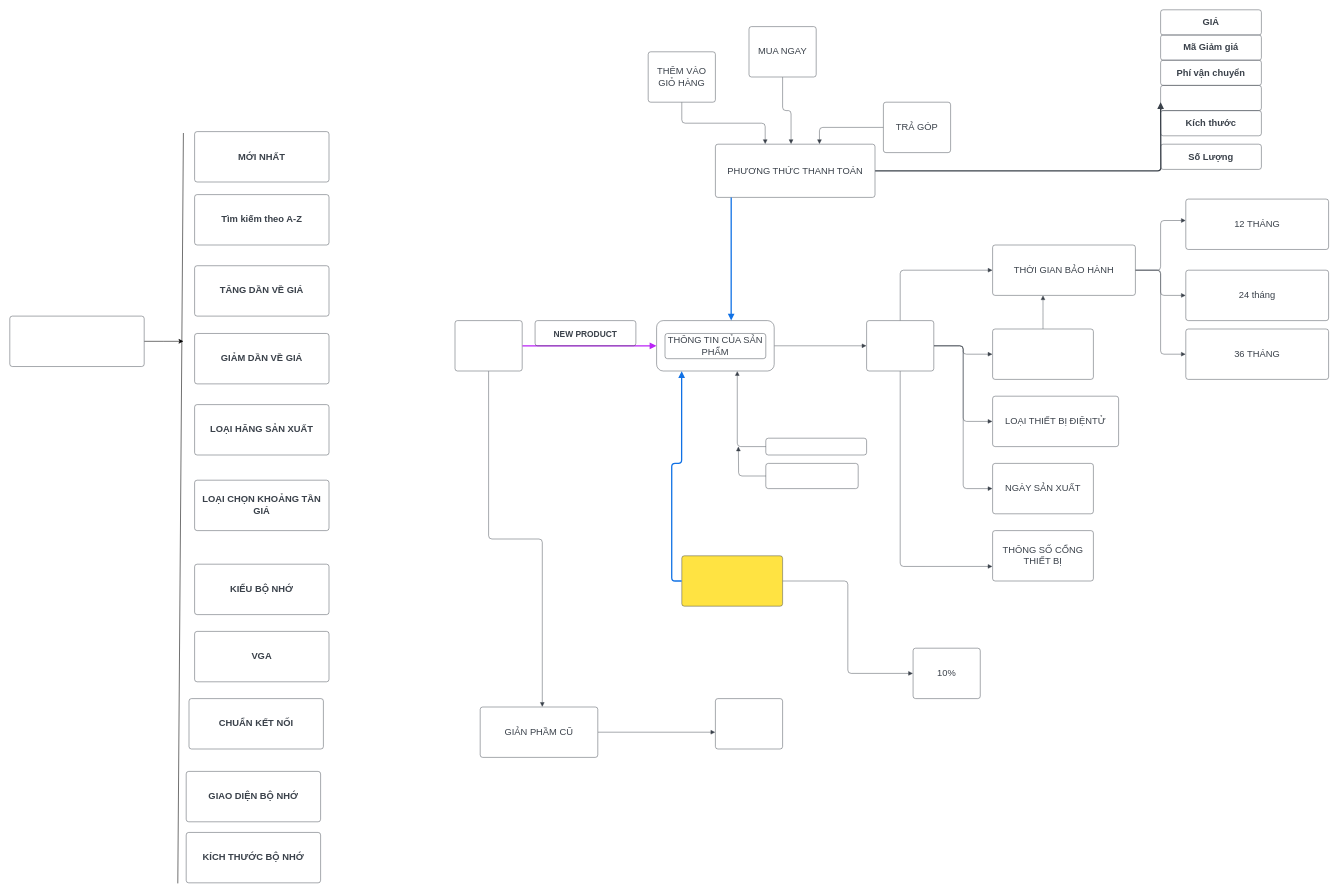
Some shapes in this 1338 by 894 pixel diagram are drawn without their labels. Here are the shapes that lost their labels. From the top down, the centre of each, then its label:
At point 1210,98: "MÀU SÁC".
At point 76,341: "TẤT CẢ SẢN PHẨM".
At point 488,345: "Sản phầm".
At point 900,345: "THÔNG SỐ".
At point 1042,353: "NHÀ SẢN XUẤT".
At point 816,446: "LƯỢT ĐÁNH GIÁ SAO".
At point 811,476: "BÌNH LUẬN".
At point 732,580: "GIẢM GIÁ".
At point 749,723: "Phụ thuộc vào thời gian bảo hành".
